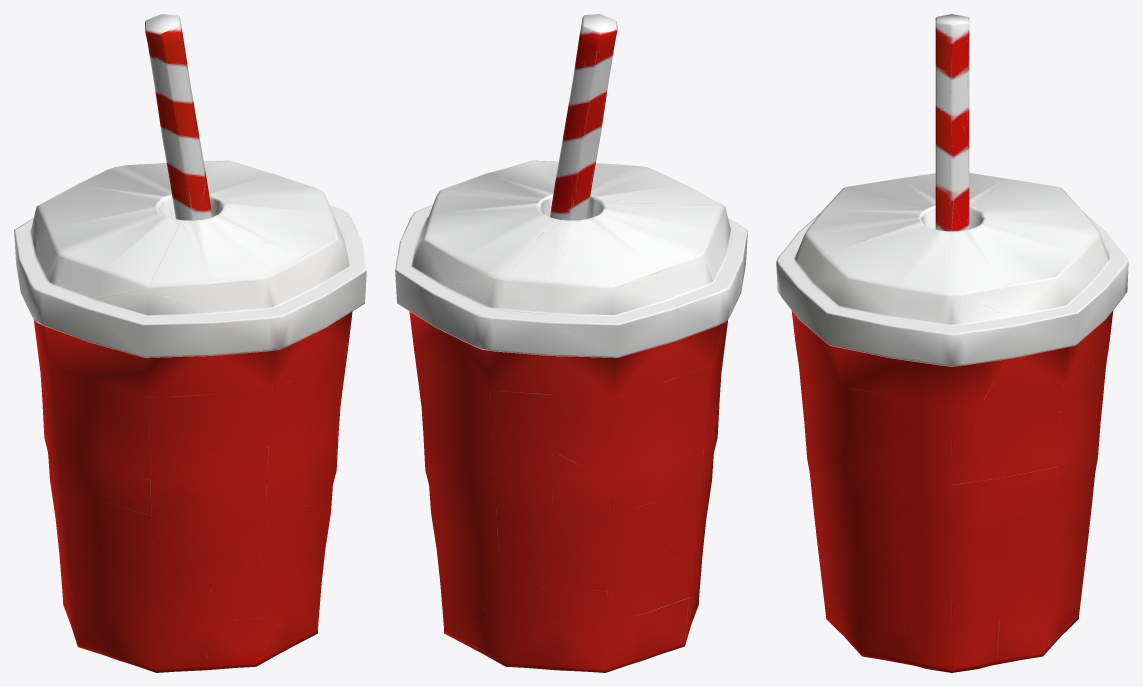
File: cup.glb
3 renders of one model, left to right at view 1: azimuth 30°, elevation 25°; view 2: azimuth 150°, elevation 25°; view 3: azimuth 270°, elevation 25°, orthographic. The views are drawn at different scales.
Bounding box in the file's own units: 1.03 × 1.91 × 1.03.
Materials: 1 (1 with a texture image).
